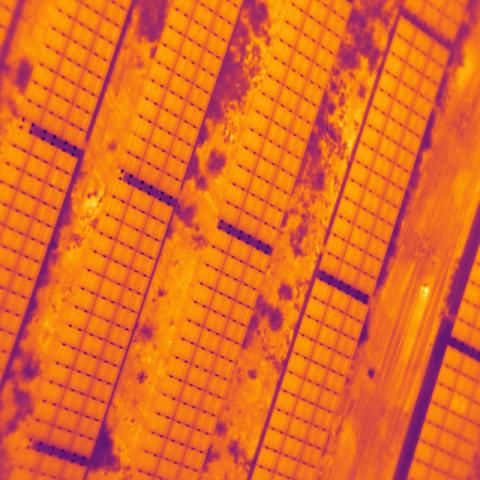fault: (448, 390, 473, 421)
